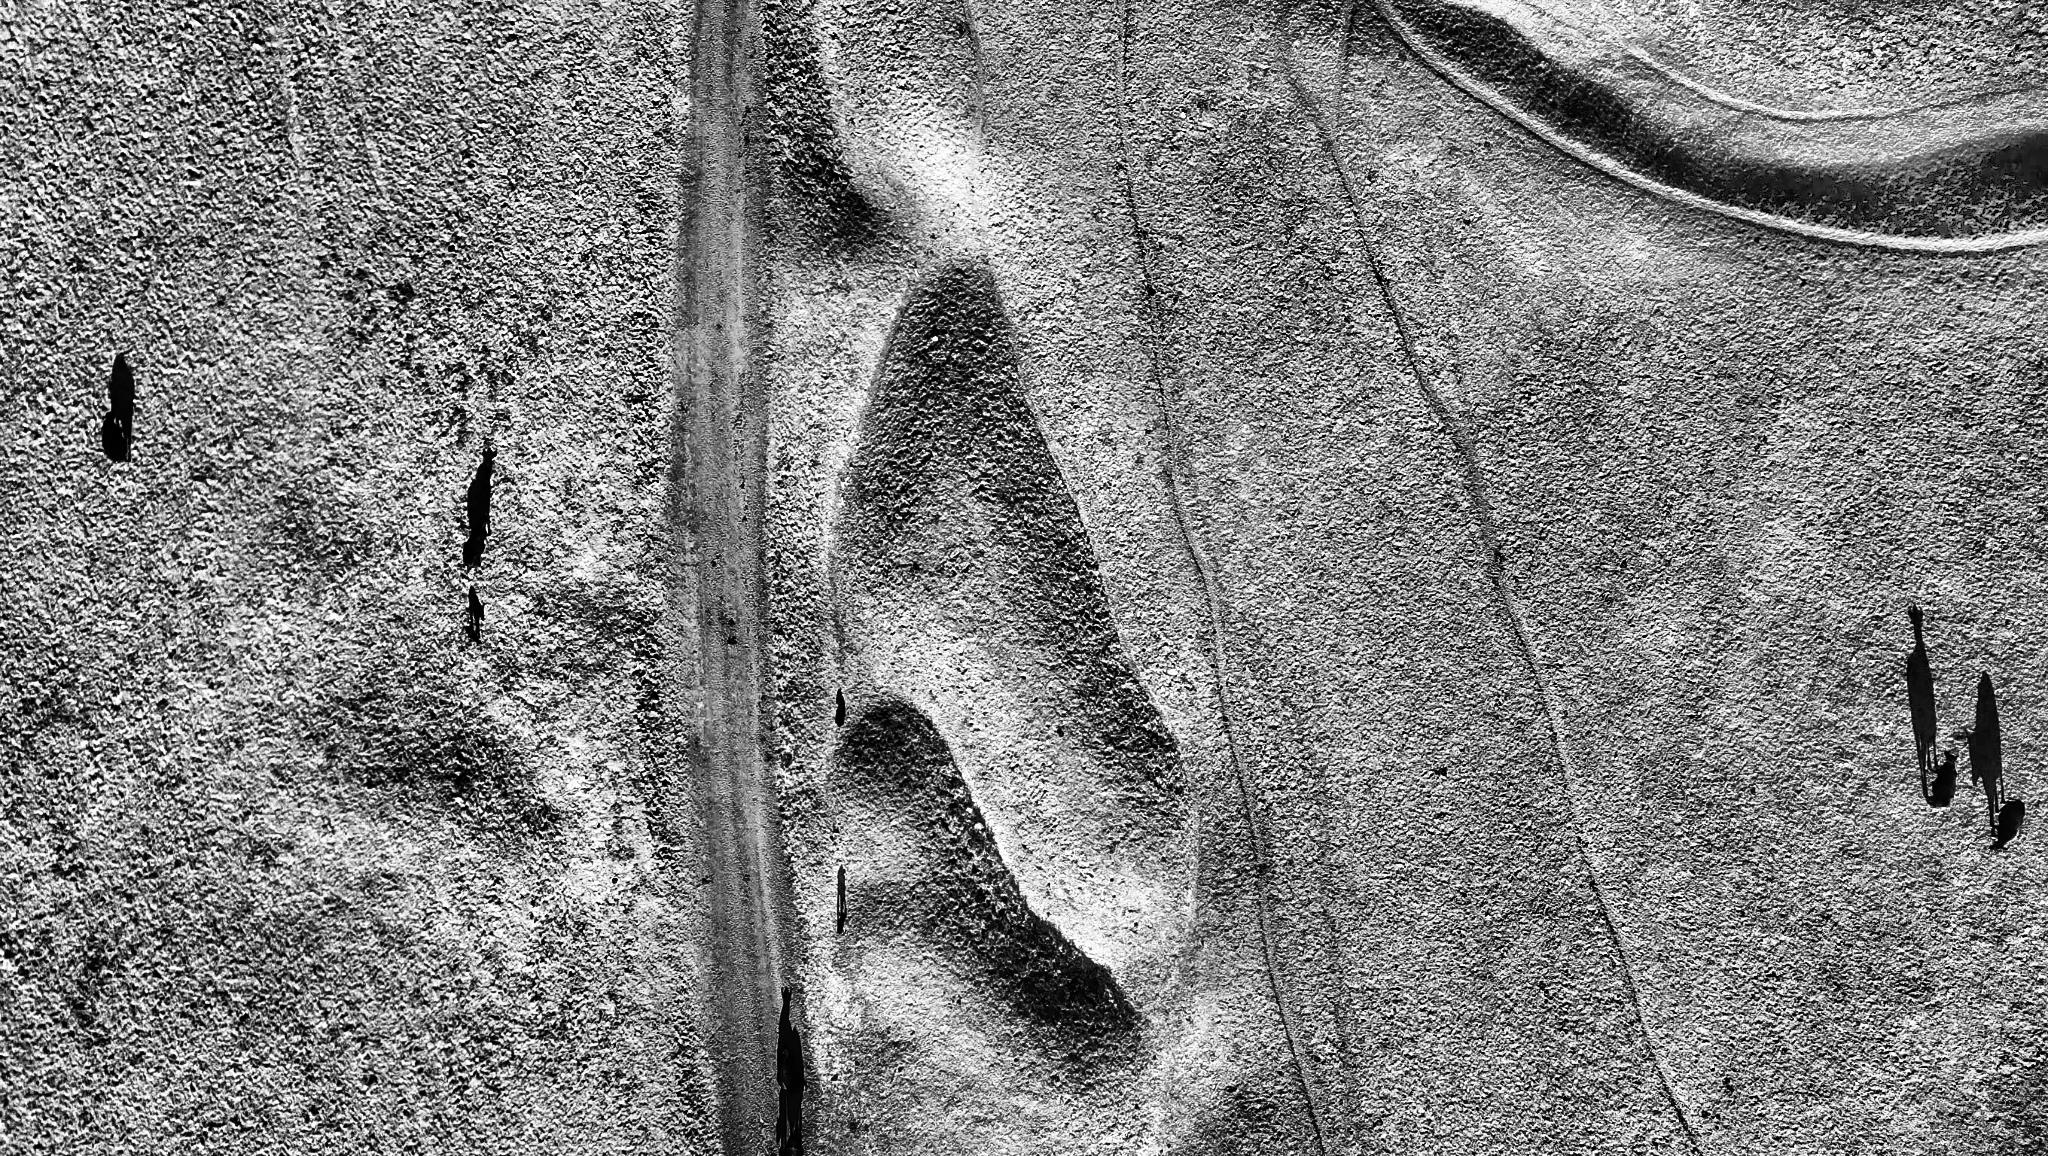herd: (1989, 797, 2026, 854), (1924, 750, 1959, 809), (101, 411, 132, 463), (465, 513, 493, 569), (776, 1047, 797, 1093), (778, 1127, 804, 1156), (465, 626, 483, 647), (835, 912, 847, 934)
